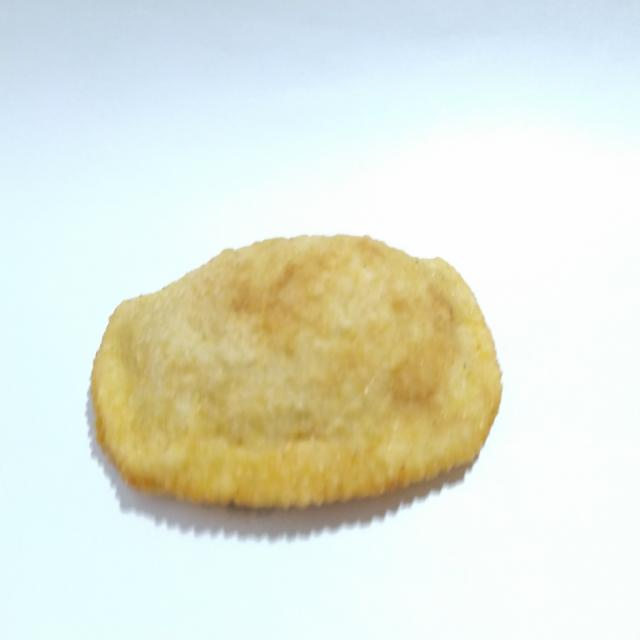Pastel_Mandio: (74, 220, 508, 546)
